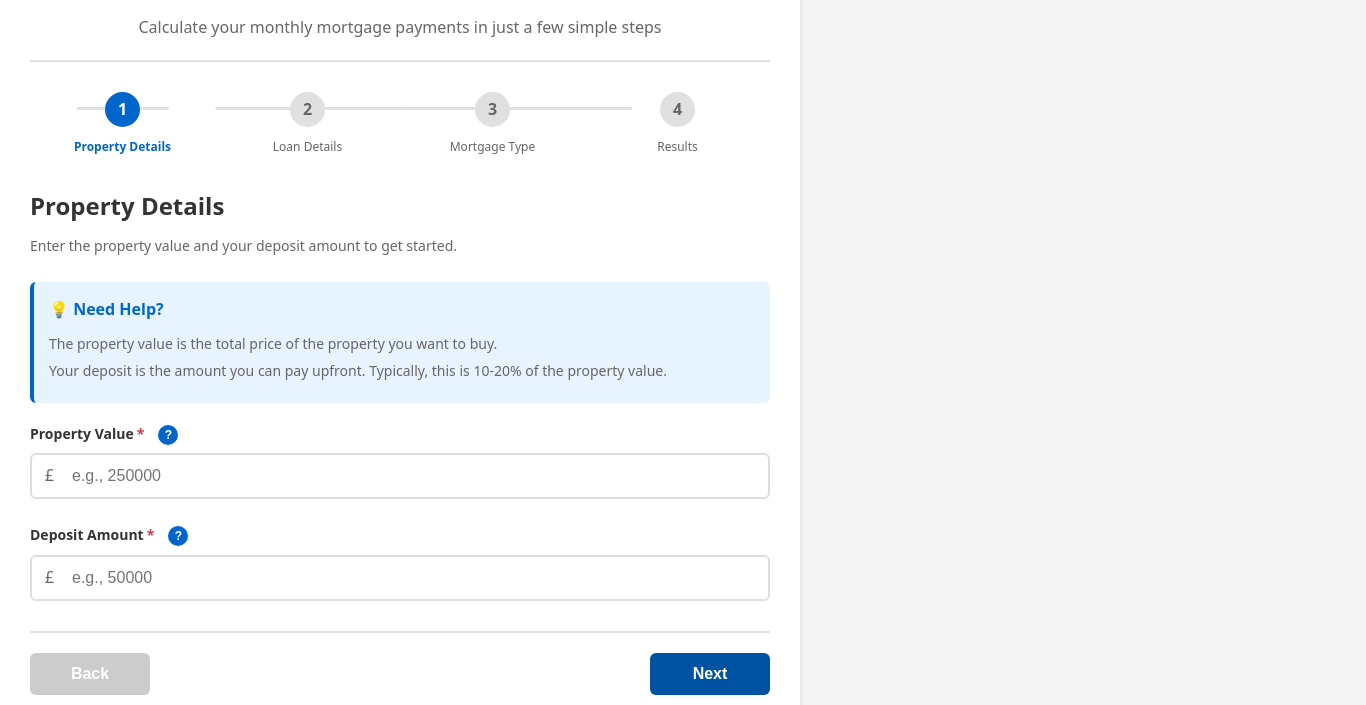
MortgageCalculator › validates property value is required
(page scrolled)
Click the button "Next" at (710, 674), box [650,652,770,694]
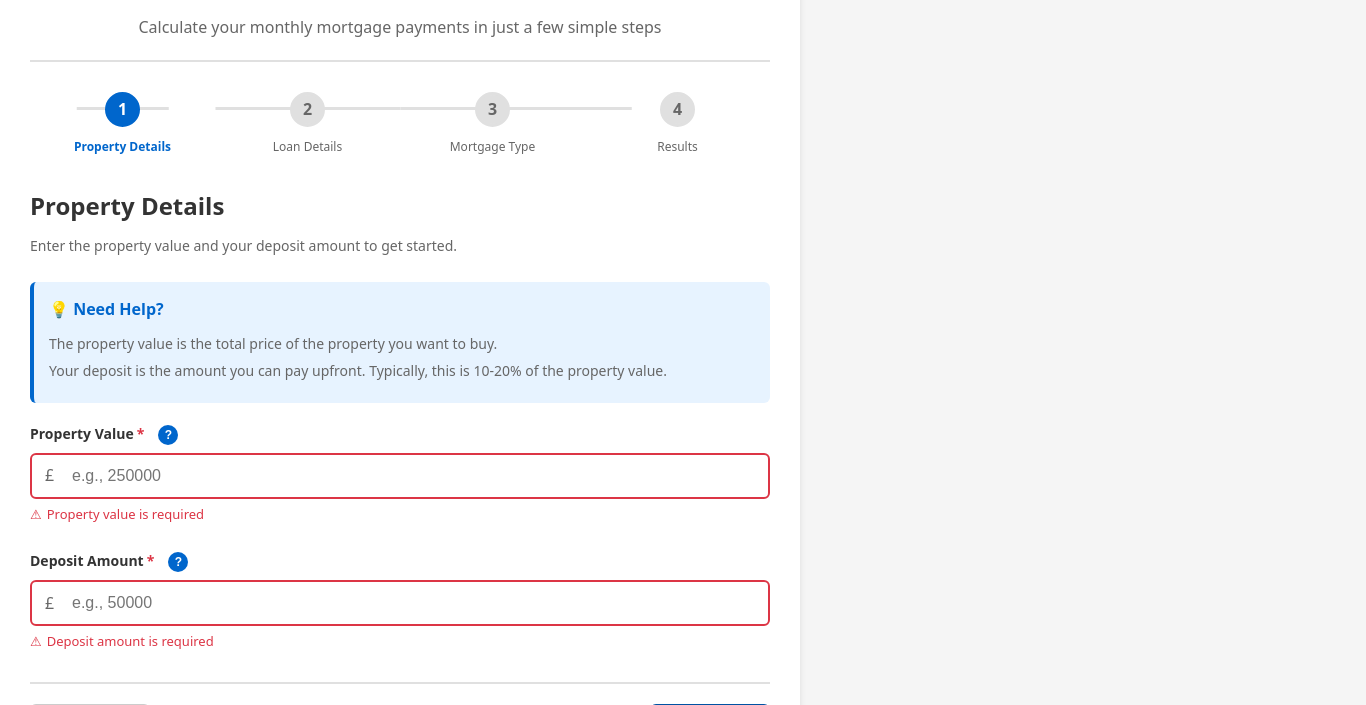
Now the text "⚠ Property value is required" is shown, box [30,505,204,523]
